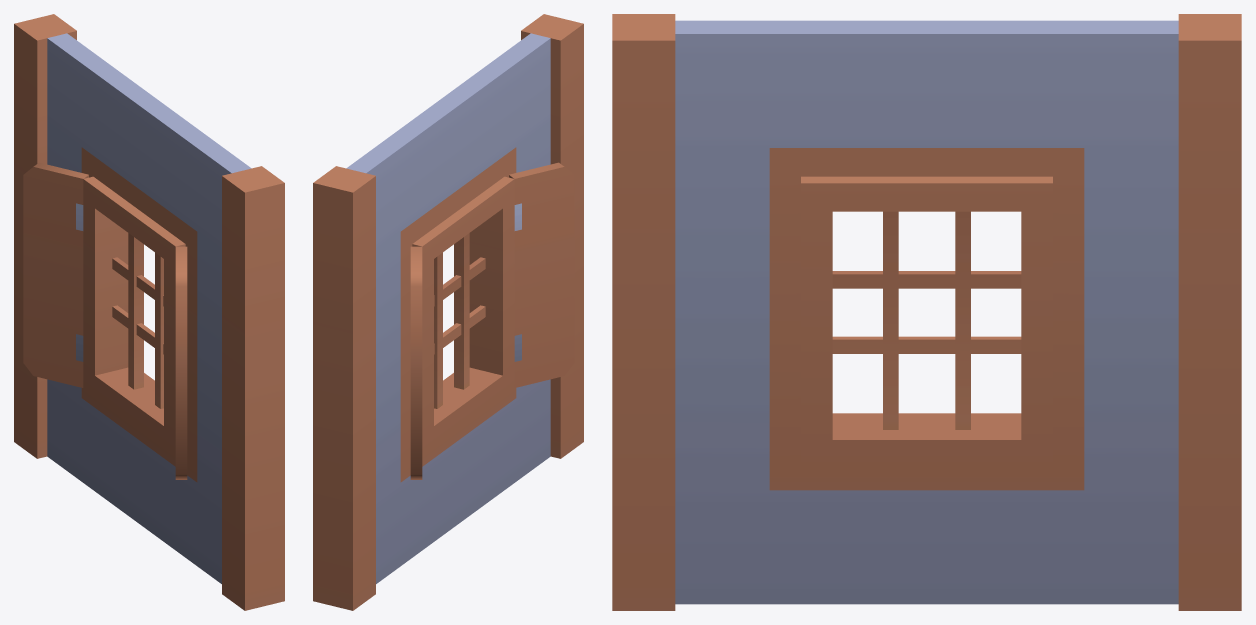
Rendered from wall-window-shutters.glb.
The picture shows the model from 3 angles, left to right: view 1: azimuth 30°, elevation 25°; view 2: azimuth 150°, elevation 25°; view 3: azimuth 270°, elevation 25°; orthographic projection. The views are drawn at different scales.
Visible parts, largest first — view 1: wall-window-shutters; view 2: wall-window-shutters; view 3: wall-window-shutters.
Part boxes in pixels (left/top/right/bottom): wall-window-shutters: left=14, top=14, right=284, bottom=610; wall-window-shutters: left=313, top=14, right=583, bottom=610; wall-window-shutters: left=612, top=14, right=1241, bottom=610.
Size of the model in its own units: 0.1749 by 1 by 1.
1 material, 1 textured.
